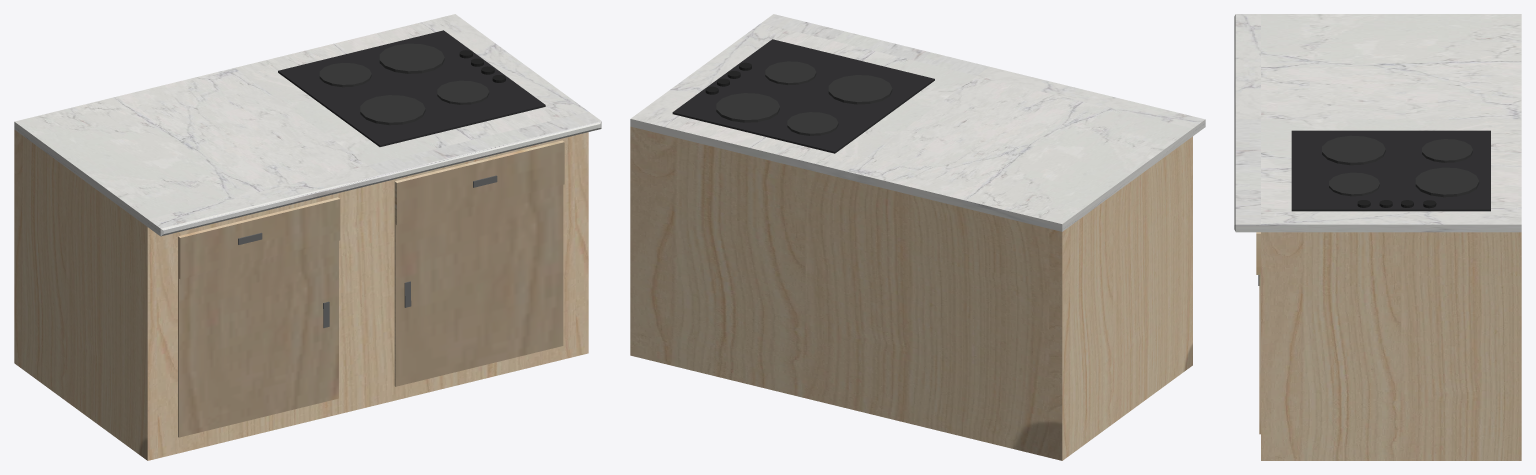
The model's file is Encimera.fbx.
3 views of the same model, side by side, from view 1: azimuth 30°, elevation 25°; view 2: azimuth 150°, elevation 25°; view 3: azimuth 270°, elevation 25° (orthographic). The views are drawn at different scales.
Visible parts, largest first — view 1: Cube, Cylinder.001; view 2: Cube, Cylinder.001; view 3: Cube, Cylinder.001, Cylinder.006.
Boxes of the visible parts, box(x1,y1,x2,y2) form: Cube: box(14, 14, 601, 460); Cylinder.001: box(319, 43, 489, 125); Cube: box(630, 14, 1205, 460); Cylinder.001: box(716, 61, 892, 135); Cube: box(1234, 14, 1521, 460); Cylinder.001: box(1322, 135, 1479, 197); Cylinder.006: box(1357, 200, 1436, 208).
Bounding box in the file's own units: 267 × 142 × 154.
Materials: 6 (2 with a texture image).
